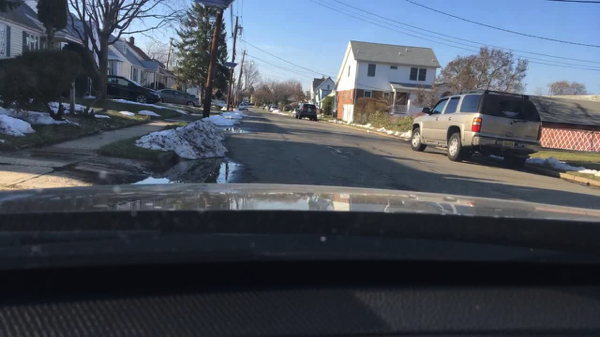car: (409, 88, 543, 170), (106, 74, 163, 104), (154, 87, 202, 109), (295, 104, 317, 121), (210, 94, 225, 107), (237, 102, 250, 112), (281, 104, 294, 113), (263, 103, 272, 112), (268, 105, 278, 113), (261, 102, 268, 110)
